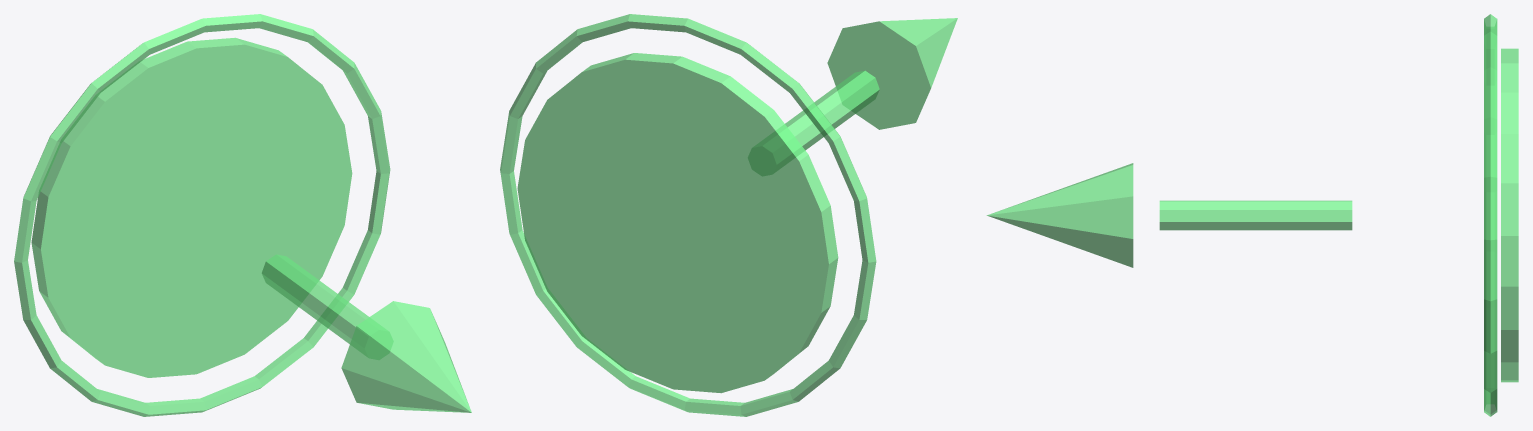
The model's file is 04_climbable_surface_marker.glb.
3 views of the same model, side by side, from view 1: azimuth 30°, elevation 25°; view 2: azimuth 150°, elevation 25°; view 3: azimuth 270°, elevation 25° (orthographic). The views are drawn at different scales.
Visible parts, largest first — view 1: base_disc, base_ring, arrow_head, arrow_stem; view 2: base_disc, base_ring, arrow_head, arrow_stem; view 3: arrow_head, base_disc, arrow_stem, base_ring.
Boxes of the visible parts, x1,y1,x2,y2 form: base_disc: [31, 37, 352, 377]; base_ring: [14, 14, 390, 416]; arrow_head: [341, 301, 471, 412]; arrow_stem: [261, 254, 392, 359]; base_disc: [517, 53, 838, 393]; base_ring: [500, 14, 876, 416]; arrow_head: [827, 18, 957, 129]; arrow_stem: [748, 70, 879, 175]; arrow_head: [986, 163, 1133, 267]; base_disc: [1501, 48, 1518, 382]; arrow_stem: [1159, 200, 1352, 230]; base_ring: [1484, 14, 1497, 416].
Bounding box in the file's own units: 1.16 × 1.16 × 1.52.
